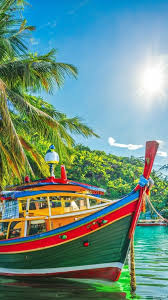boat: (1, 140, 159, 283)
